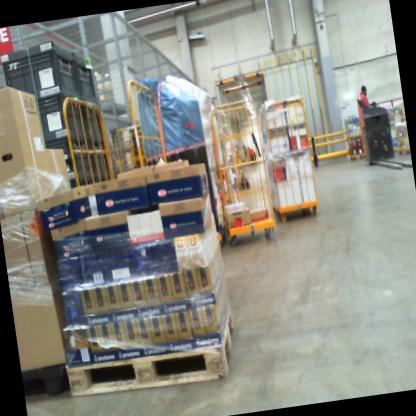pallet: (63, 303, 248, 399), (21, 357, 68, 400)
pallet_truck: (345, 88, 412, 179)
